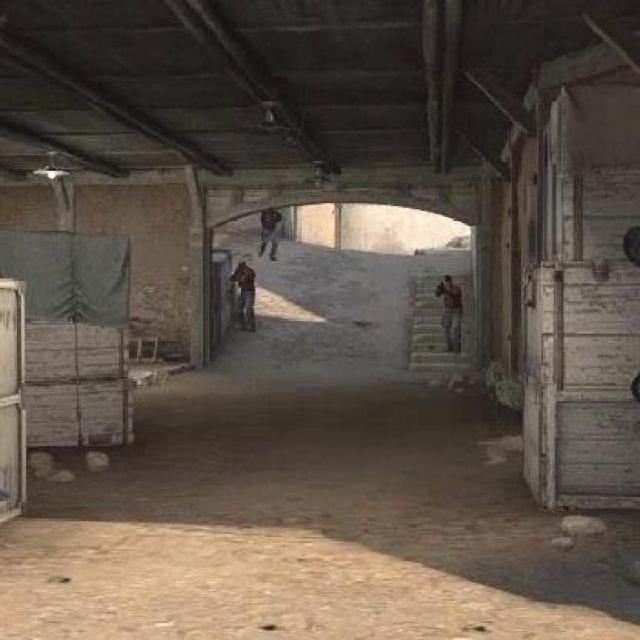Dead: (237, 258, 248, 270), (443, 274, 452, 284)
T-Body: (436, 270, 462, 346), (230, 256, 256, 324), (257, 208, 280, 254)
